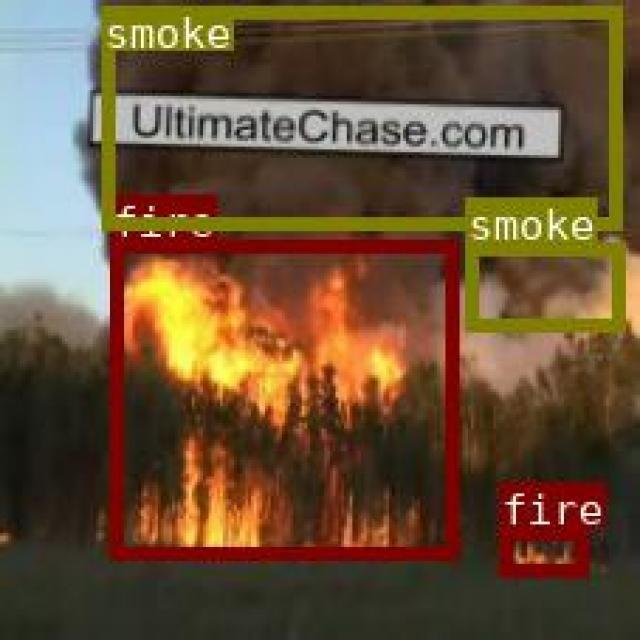fire: (108, 239, 457, 556), (496, 525, 586, 574)
smoke: (100, 5, 620, 226), (463, 240, 623, 329)
